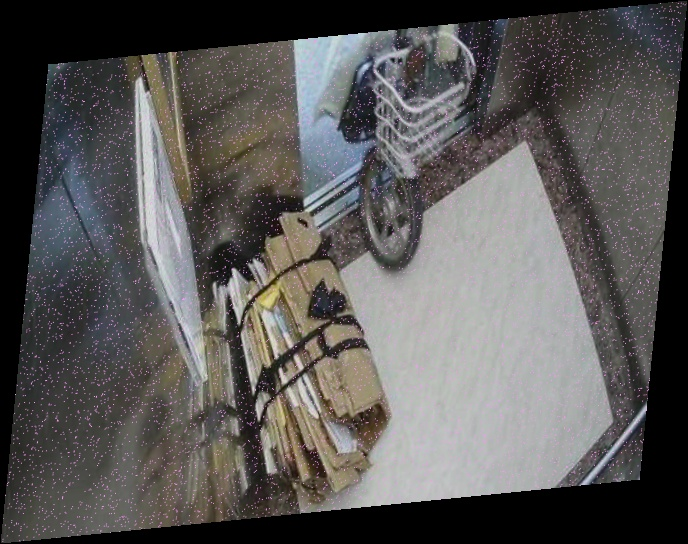electromobile: (325, 15, 500, 269)
